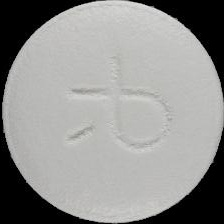54868-0700: (0, 0, 224, 224)
